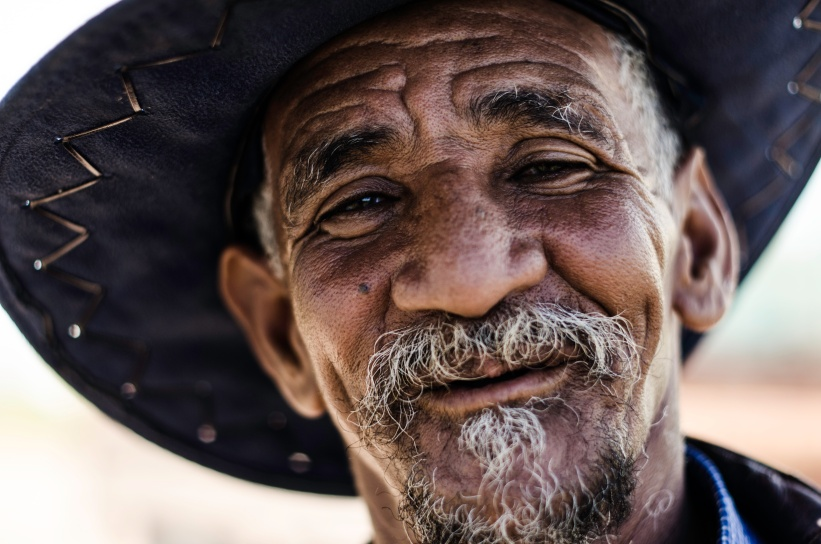Forehead: (231, 41, 633, 125)
